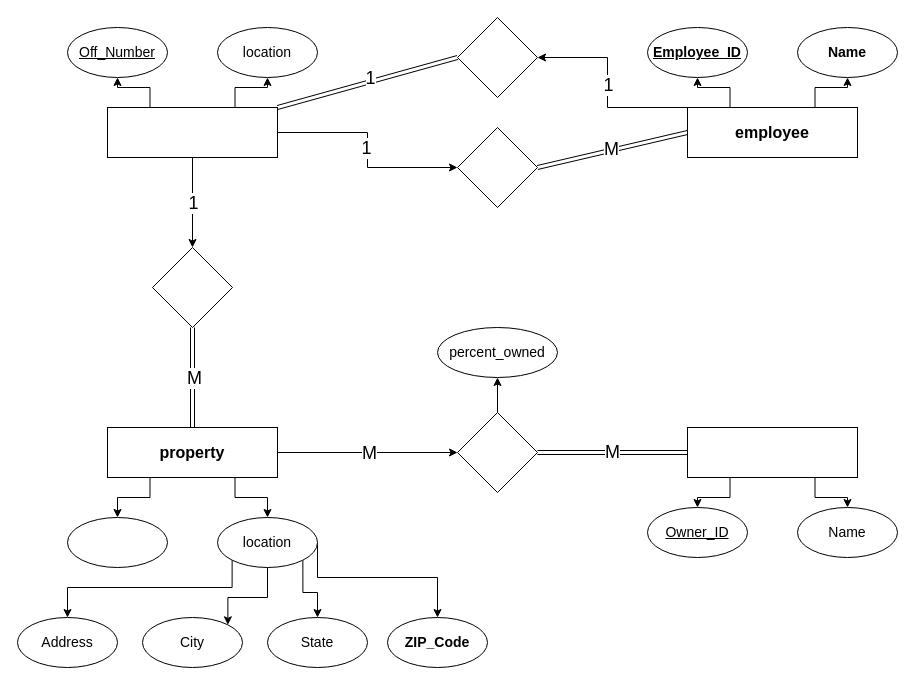
Image size: 915x685. Some labels were removed from this diagram. The shapes that lost their labels are listed below. From the top down, each one's box as (x1, y1, x2, y2) in pixels, then its label:
(456, 16, 538, 98): m anage
(106, 106, 278, 158): office
(456, 126, 538, 208): assign
(152, 246, 232, 328): List
(456, 412, 538, 492): has
(686, 426, 858, 478): owner
(66, 516, 168, 568): Property_ID
